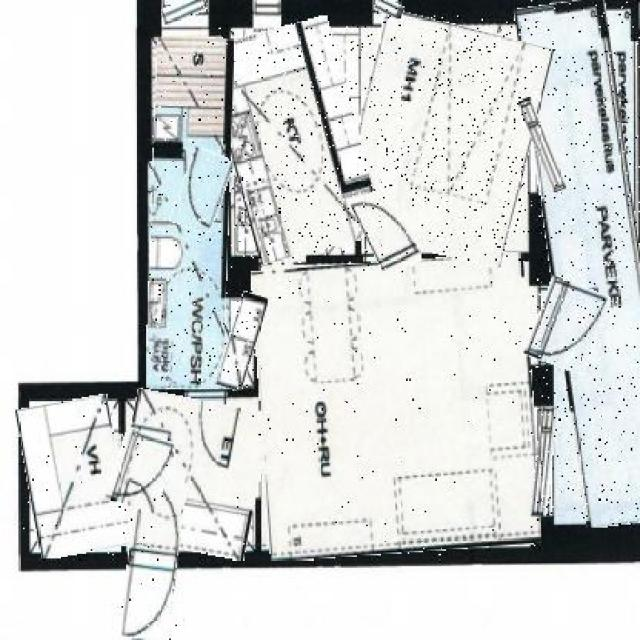door: (122, 478, 180, 640), (529, 280, 605, 372), (110, 431, 172, 511), (357, 188, 414, 272), (176, 149, 230, 231)
window: (526, 97, 559, 192), (534, 406, 555, 517), (160, 0, 208, 20), (254, 0, 280, 17), (374, 0, 403, 15)
zone: (255, 257, 537, 557), (531, 0, 640, 525), (344, 15, 542, 260), (217, 22, 371, 258), (150, 38, 232, 390), (117, 394, 265, 555), (22, 397, 126, 555), (223, 291, 262, 391)
